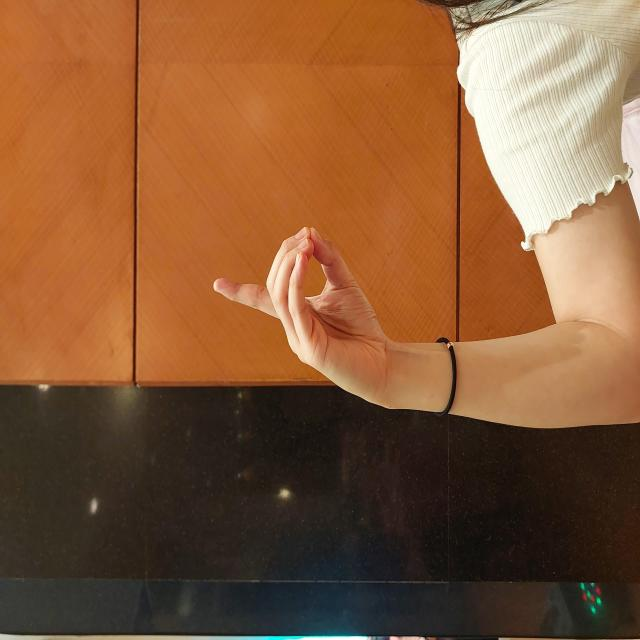D: (252, 212, 417, 390)
